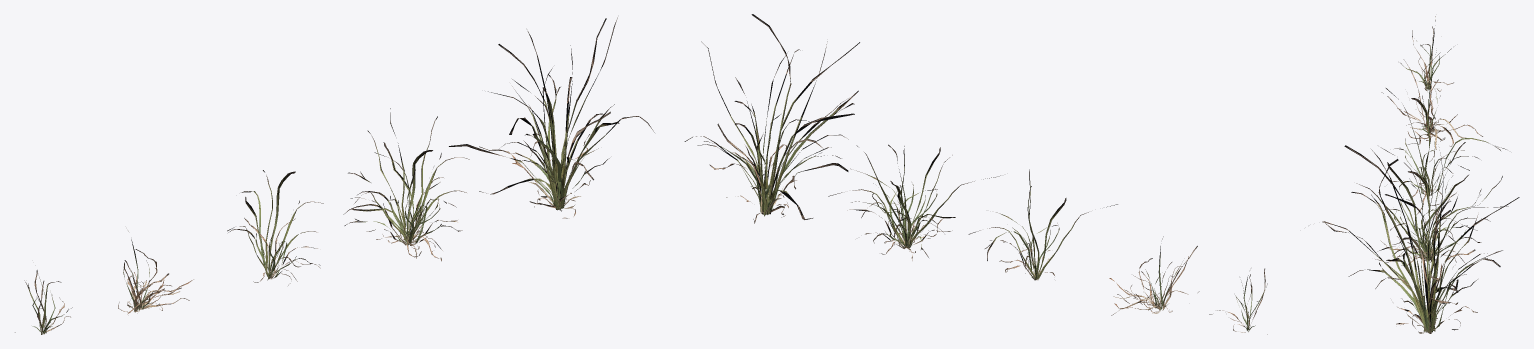
Rendered from grass_medium_02.glb.
The picture shows the model from 3 angles, left to right: view 1: azimuth 30°, elevation 25°; view 2: azimuth 150°, elevation 25°; view 3: azimuth 270°, elevation 25°; orthographic projection. The views are drawn at different scales.
Parts seen in each view (by area): view 1: grass_medium_02_e, grass_medium_02_d, grass_medium_02_c, grass_medium_02_b, grass_medium_02_a; view 2: grass_medium_02_e, grass_medium_02_d, grass_medium_02_c, grass_medium_02_b, grass_medium_02_a; view 3: grass_medium_02_e, grass_medium_02_d, grass_medium_02_c, grass_medium_02_b, grass_medium_02_a.
Boxes of the visible parts, x1,y1,x2,y2 form: grass_medium_02_e: (449, 17, 654, 218); grass_medium_02_d: (343, 108, 469, 261); grass_medium_02_c: (227, 170, 323, 285); grass_medium_02_b: (118, 231, 193, 314); grass_medium_02_a: (15, 270, 72, 334); grass_medium_02_e: (684, 14, 859, 223); grass_medium_02_d: (828, 144, 1000, 260); grass_medium_02_c: (968, 169, 1117, 280); grass_medium_02_b: (1109, 236, 1199, 315); grass_medium_02_a: (1209, 268, 1267, 334); grass_medium_02_e: (1322, 145, 1519, 333); grass_medium_02_d: (1356, 142, 1508, 267); grass_medium_02_c: (1386, 88, 1506, 214); grass_medium_02_b: (1381, 50, 1482, 149); grass_medium_02_a: (1400, 16, 1453, 91).
Size of the model in its own units: 1.31 by 0.4056 by 0.4317.
1 material, 1 textured.
